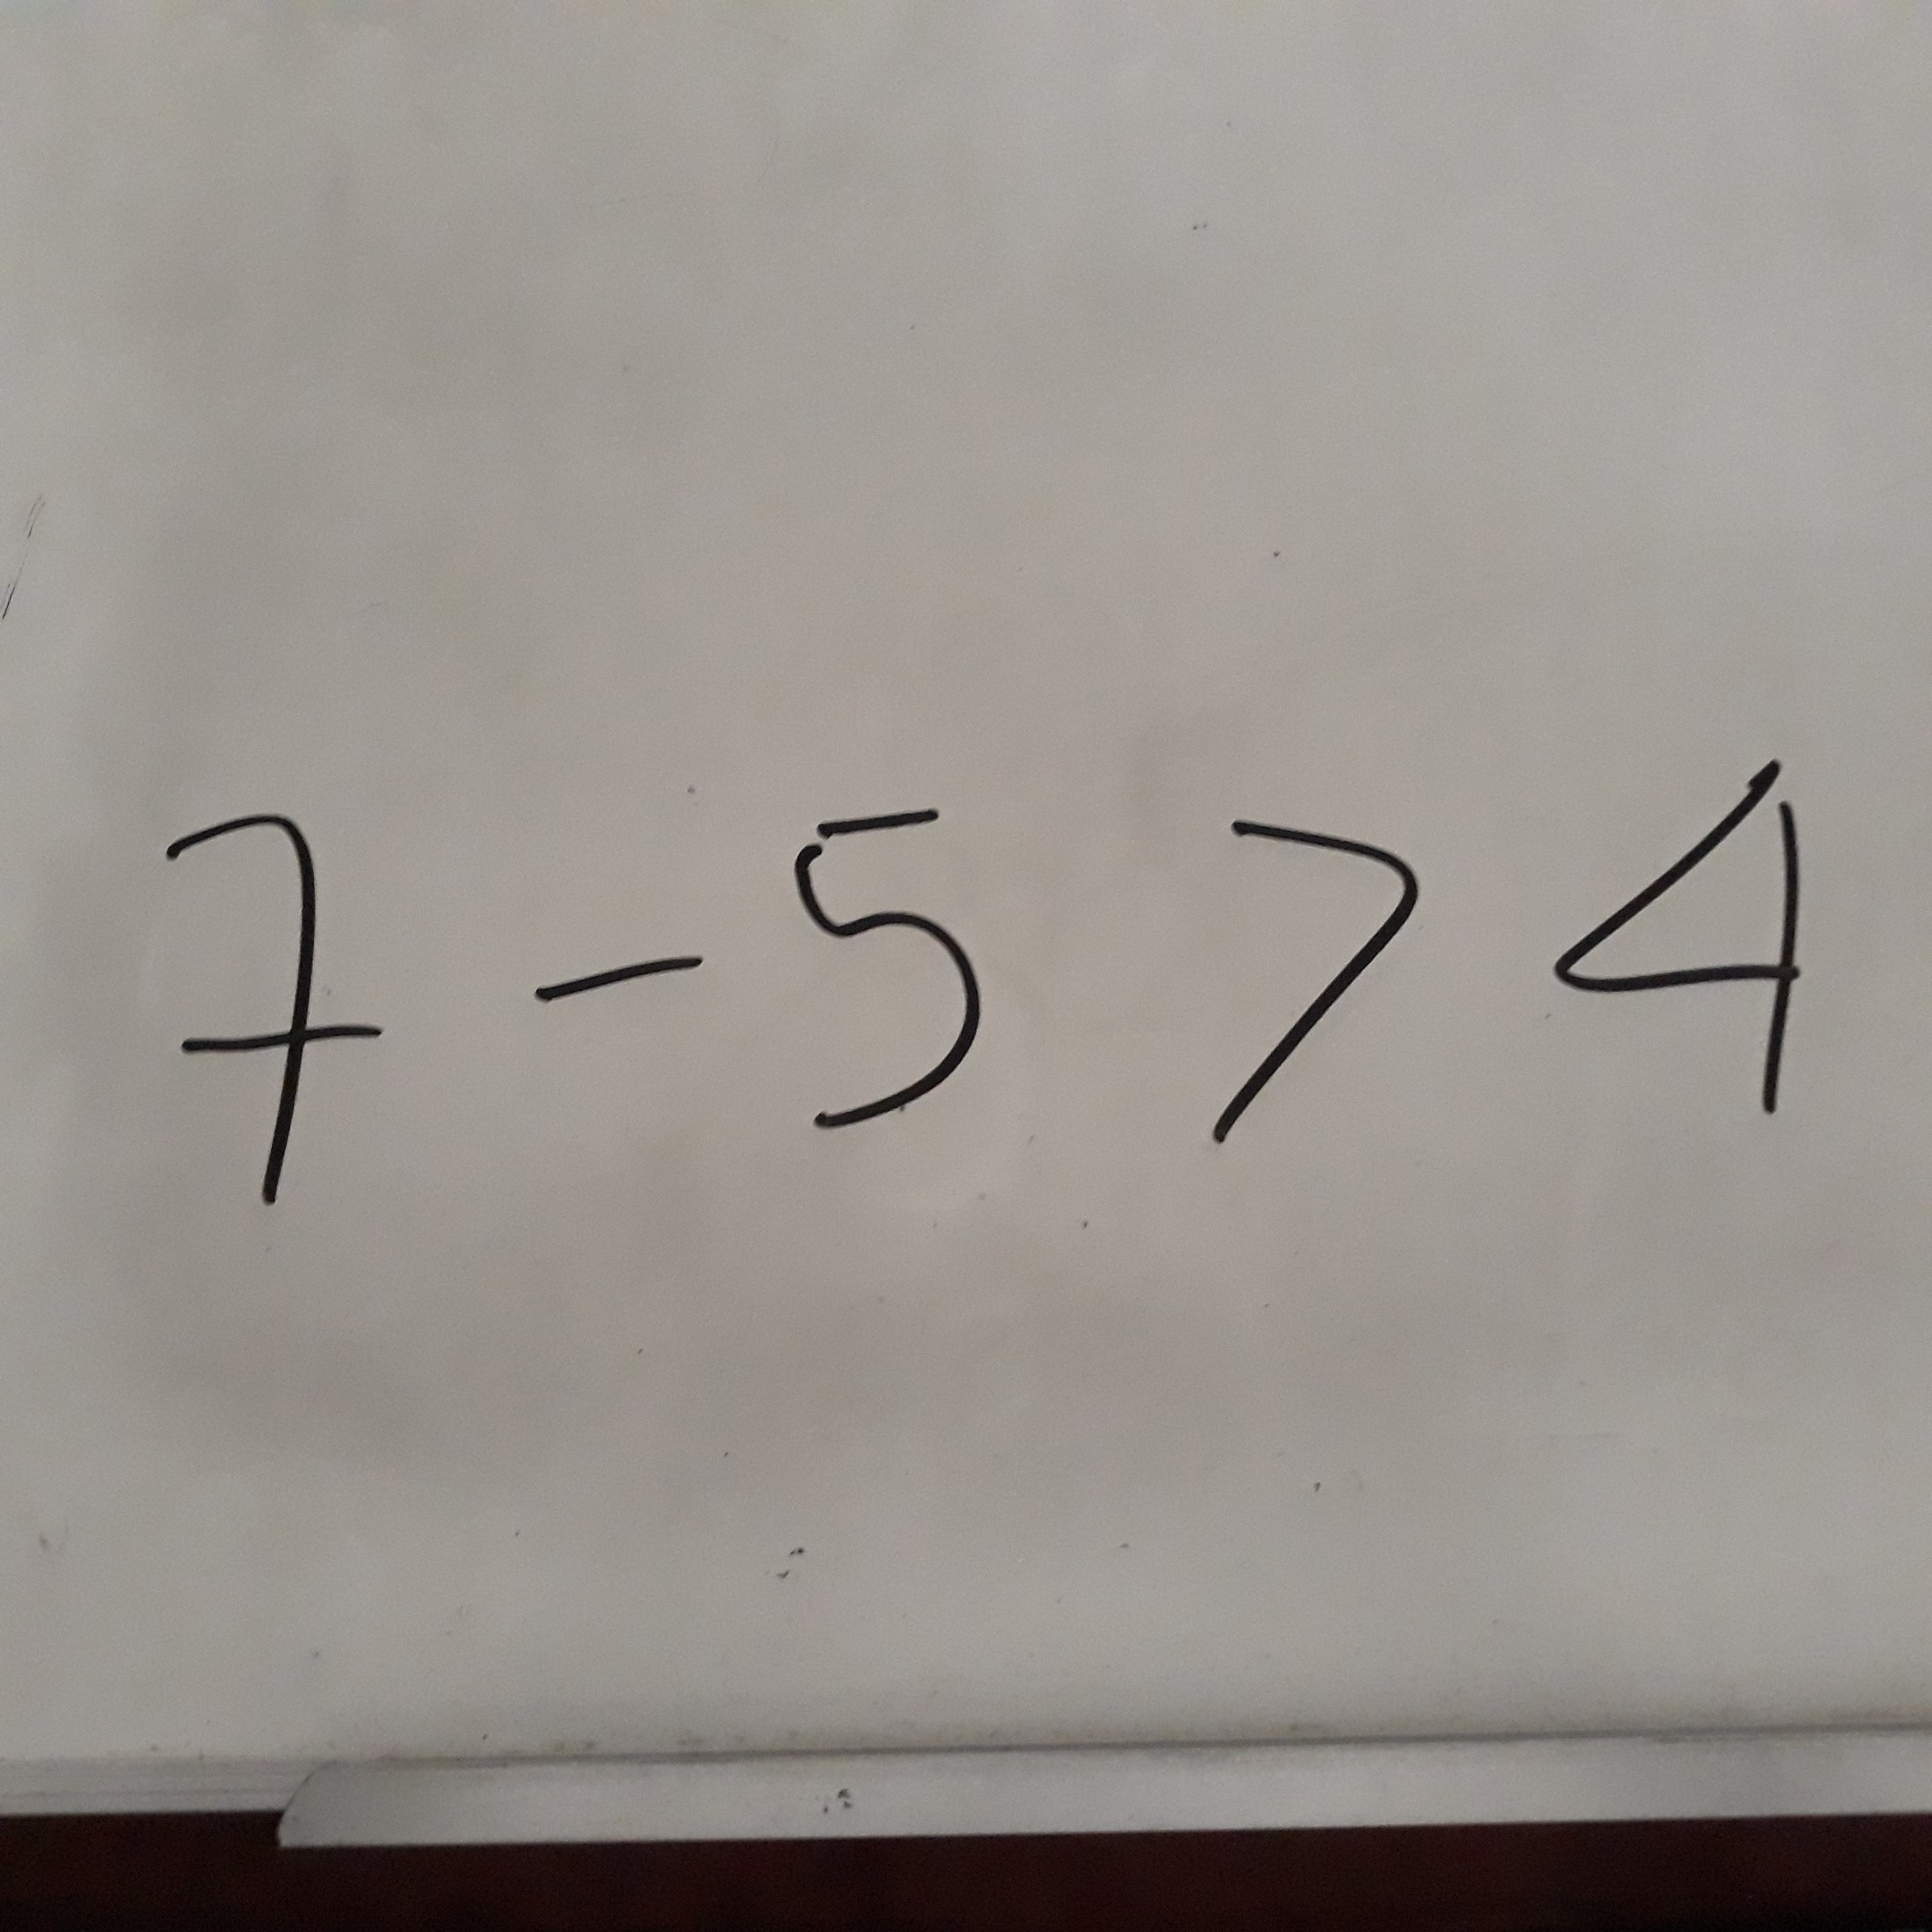min: (500, 918, 720, 1028)
morethan: (1187, 776, 1444, 1184)
num4: (1541, 714, 1813, 1158)
num5: (772, 754, 1029, 1162)
num7: (139, 801, 409, 1233)
